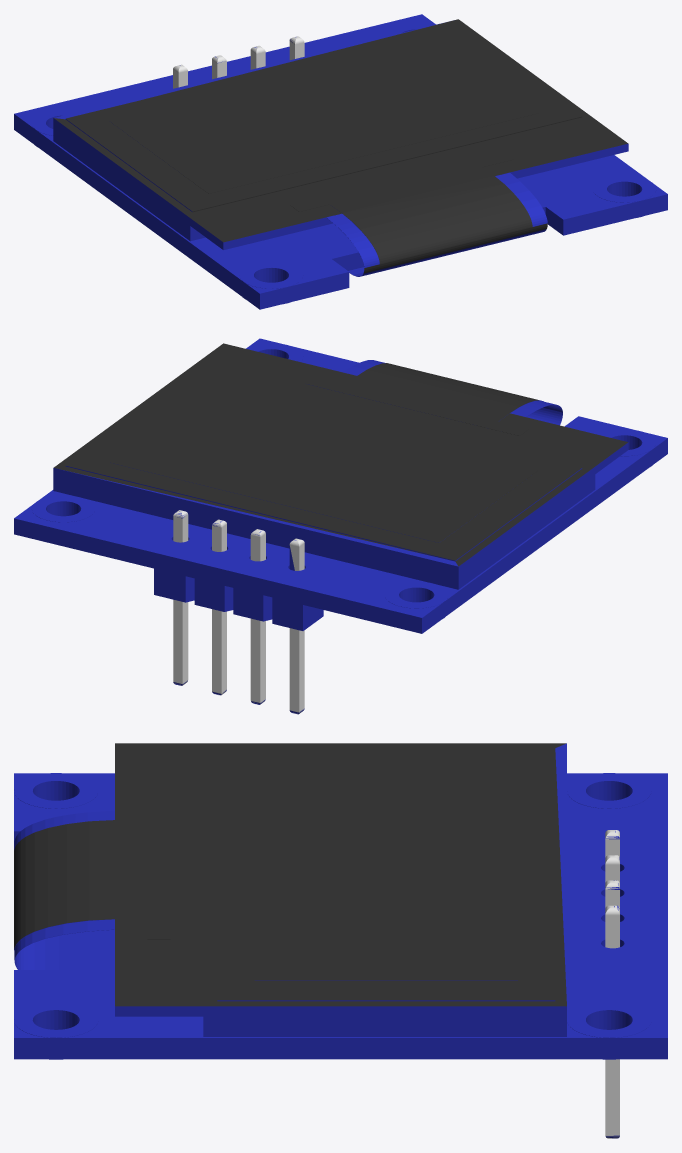
File: oled.fbx
The picture shows the model from 3 angles, top to bottom: view 1: azimuth 30°, elevation 25°; view 2: azimuth 150°, elevation 25°; view 3: azimuth 270°, elevation 25°; orthographic projection. The views are drawn at different scales.
Parts seen in each view (by area): view 1: User Library-128x64I2COLEDDisplayAdafruit; view 2: User Library-128x64I2COLEDDisplayAdafruit; view 3: User Library-128x64I2COLEDDisplayAdafruit.
Part boxes in pixels (box(x1,y1,x2,y2)): User Library-128x64I2COLEDDisplayAdafruit: box(14, 14, 667, 309); User Library-128x64I2COLEDDisplayAdafruit: box(14, 338, 667, 714); User Library-128x64I2COLEDDisplayAdafruit: box(14, 743, 667, 1138).
Size of the model in its own units: 2670 by 1085 by 2786.
